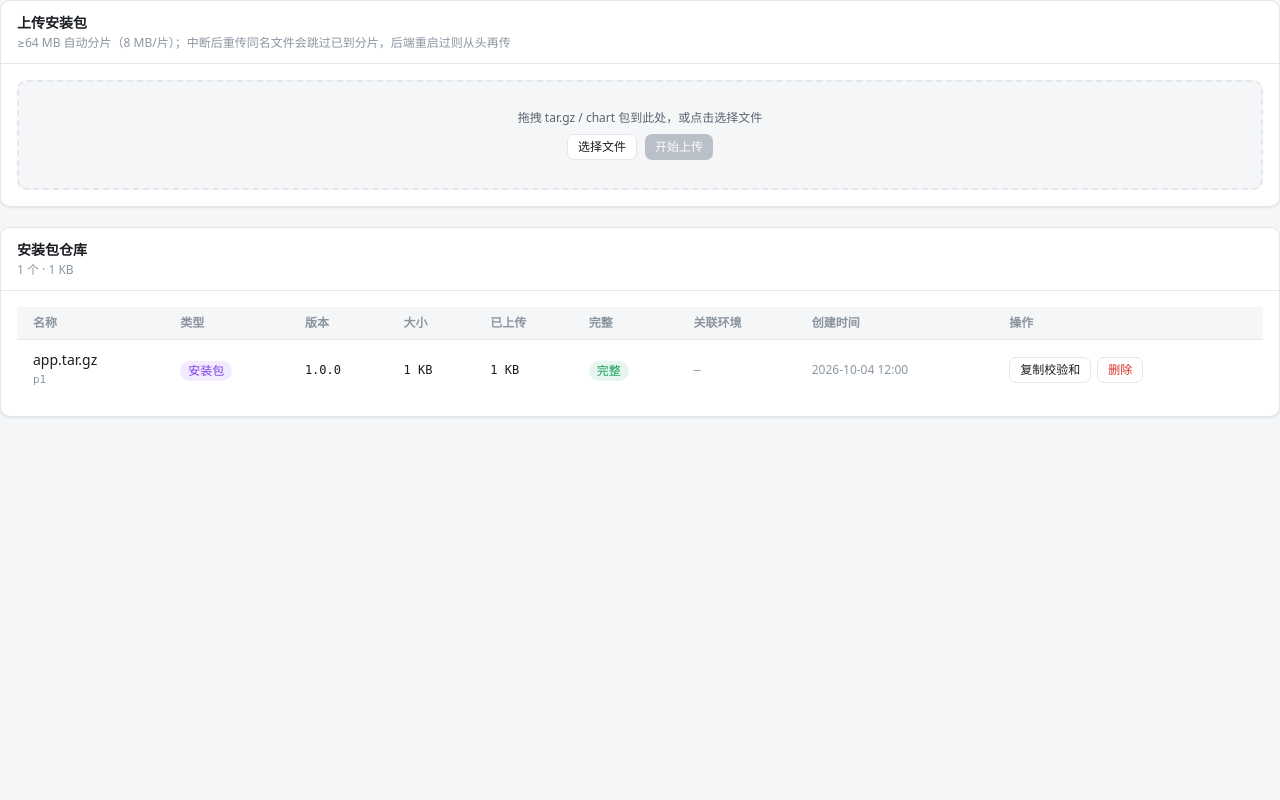
Scenario: Packages 页 › navigator.clipboard 不可用（http/LAN 非安全上下文）：给错误 toast，不抛异常
Click the button "复制校验和". click: (1050, 370)
box: [1009,357,1091,383]
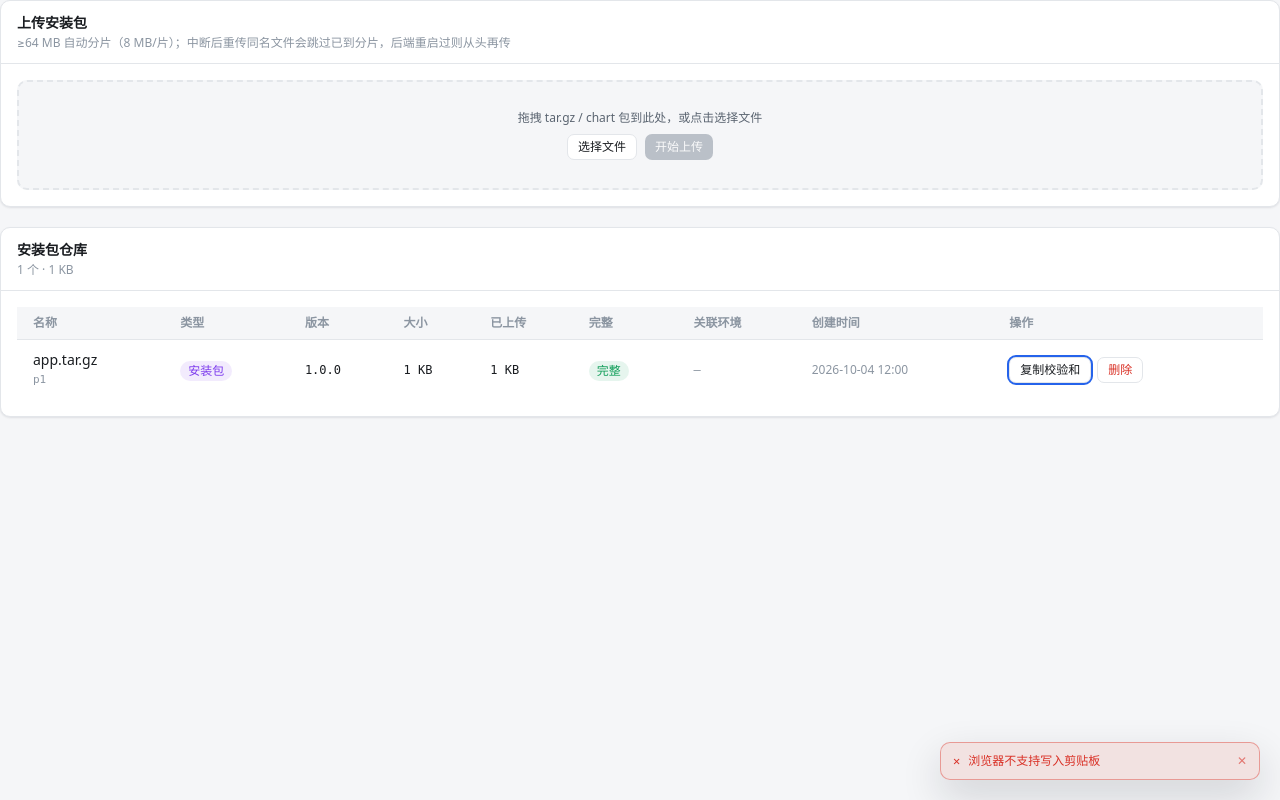
Check: the text "浏览器不支持写入剪贴板" is shown, box [968,752,1100,769]
